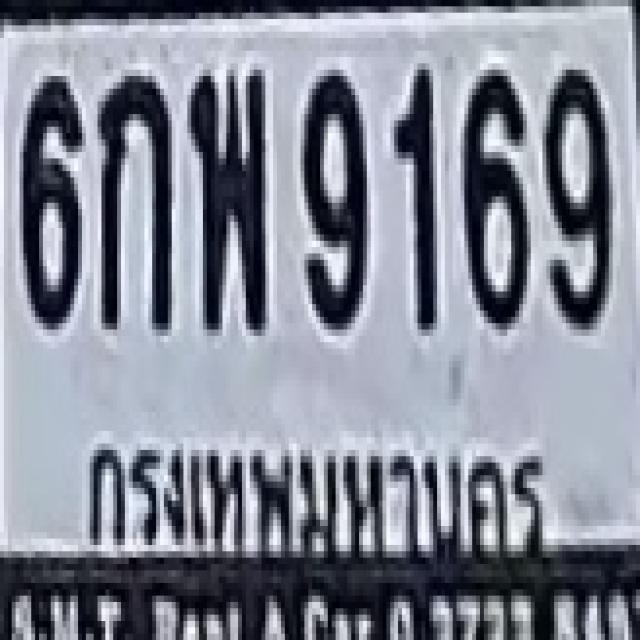1: (390, 63, 433, 330)
6: (460, 66, 527, 326), (20, 70, 78, 323)
9: (542, 63, 609, 330), (300, 64, 363, 324)
A01: (98, 70, 168, 323)
A30: (188, 66, 262, 326)
BKK: (66, 420, 559, 571)
